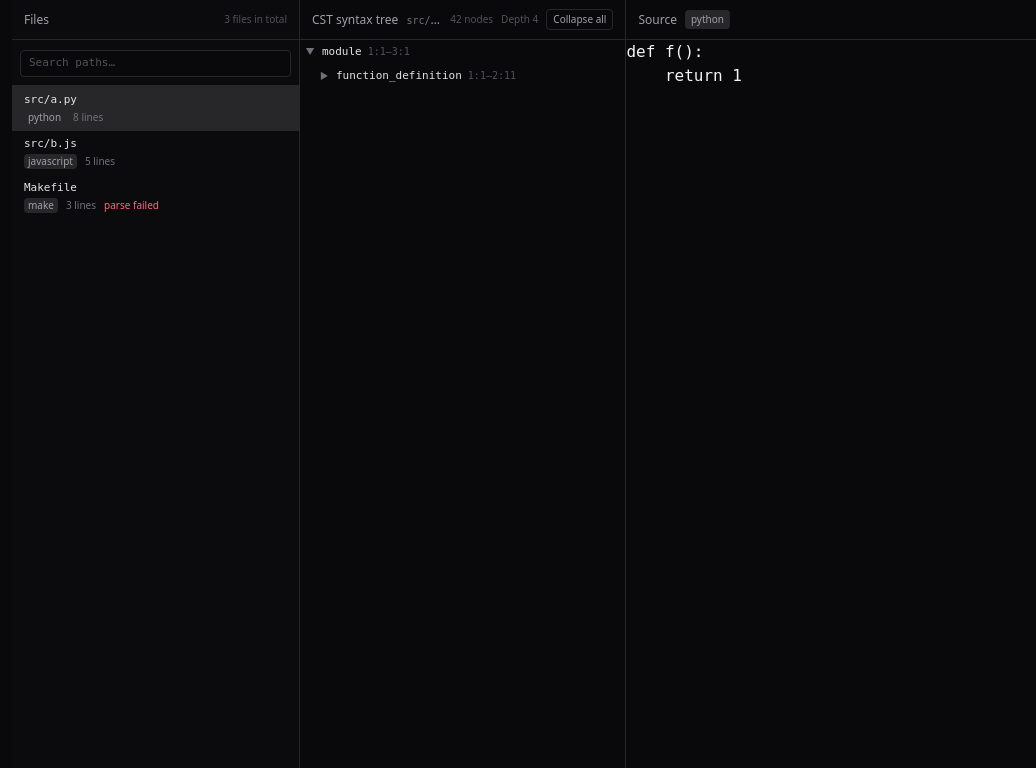
Scenario: CstView 语法树 › 选中节点：写入 store 并在源码面板高亮其范围
Click the button with test id "cst-node-toggle" showing "▶" at (324, 76), box [318, 64, 330, 88]
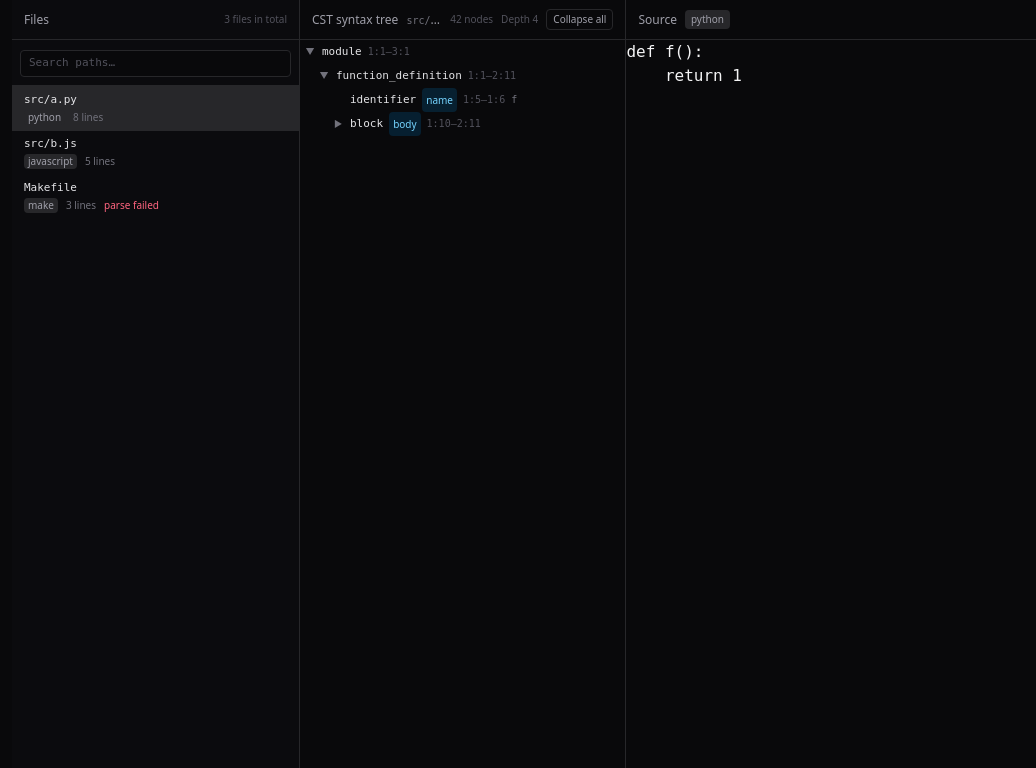
Click the list item "identifier name 1:5–1:6 f" at (434, 100), box [350, 88, 517, 112]
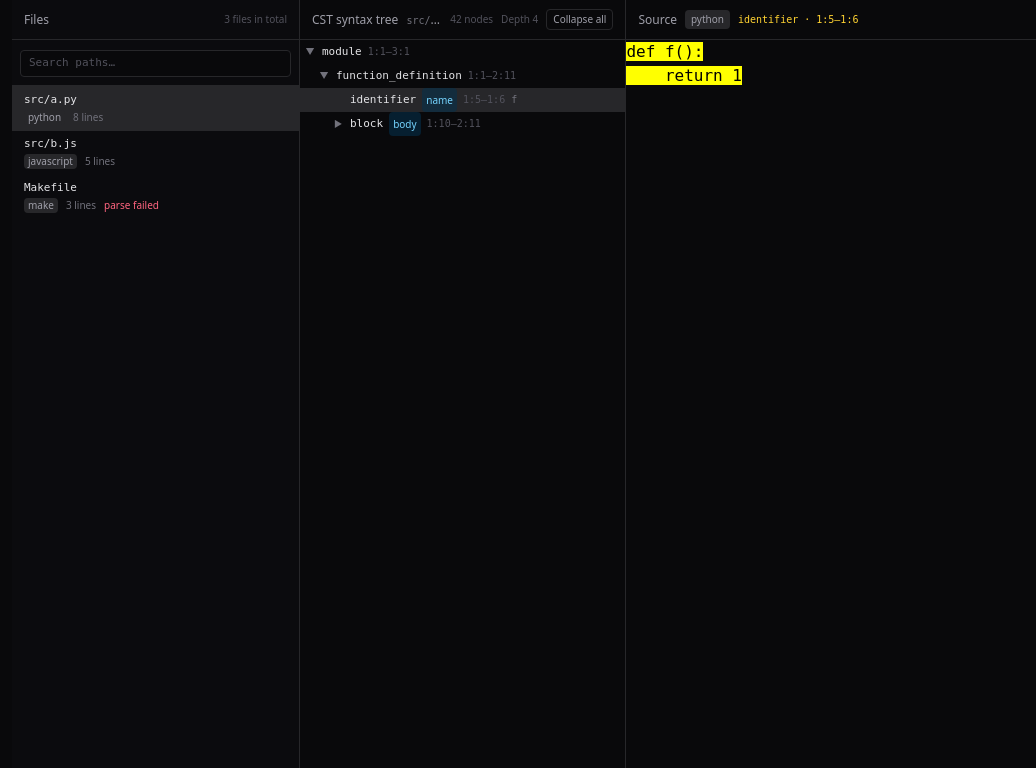
Expected: the text "def f(): return 1" is shown, [626, 42, 742, 85]
Expected: the text with test id "cst-source-node" shows "identifier", [738, 14, 798, 25]
